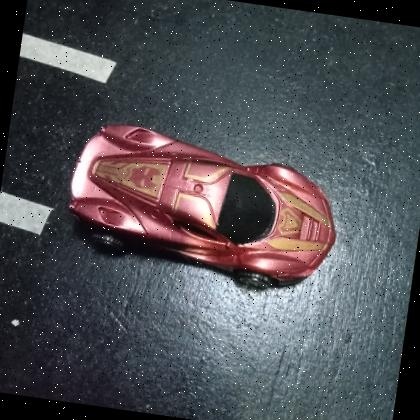Car: (69, 126, 337, 292)
